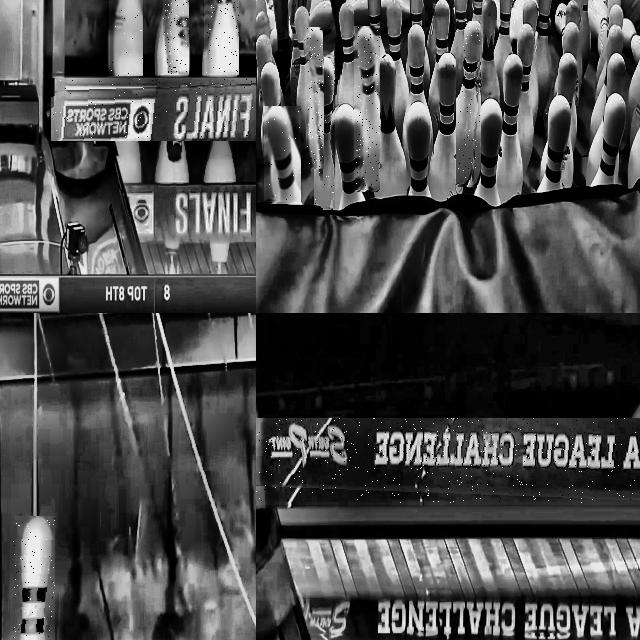bowling-pins: (428, 52, 464, 201), (373, 54, 407, 198), (497, 53, 523, 203), (17, 516, 48, 640), (457, 21, 480, 185), (356, 27, 379, 190), (592, 93, 627, 186), (538, 95, 571, 192), (266, 107, 300, 201), (334, 104, 364, 209), (386, 0, 409, 136), (428, 0, 450, 139), (315, 58, 335, 209), (475, 98, 502, 206), (403, 101, 433, 197), (517, 23, 535, 173), (111, 0, 142, 76), (206, 0, 238, 73), (479, 0, 501, 103), (307, 28, 322, 167), (534, 0, 552, 115), (338, 2, 357, 110), (494, 0, 513, 104), (294, 5, 309, 136), (163, 0, 189, 75), (450, 0, 467, 109), (407, 23, 429, 106), (562, 21, 583, 101), (367, 0, 385, 74), (587, 120, 604, 184), (606, 53, 627, 96), (628, 127, 640, 187), (561, 130, 573, 187), (629, 58, 640, 116), (549, 95, 563, 116), (542, 142, 549, 180), (473, 0, 483, 14), (615, 160, 620, 181)
sweep board: (256, 419, 640, 500), (53, 84, 256, 140)
